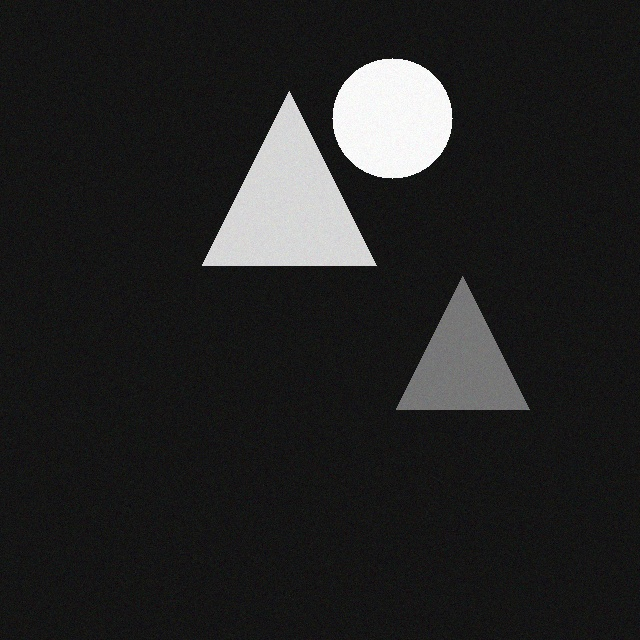circle: (328, 64, 448, 184)
triangle: (198, 97, 372, 271), (392, 282, 525, 415)
